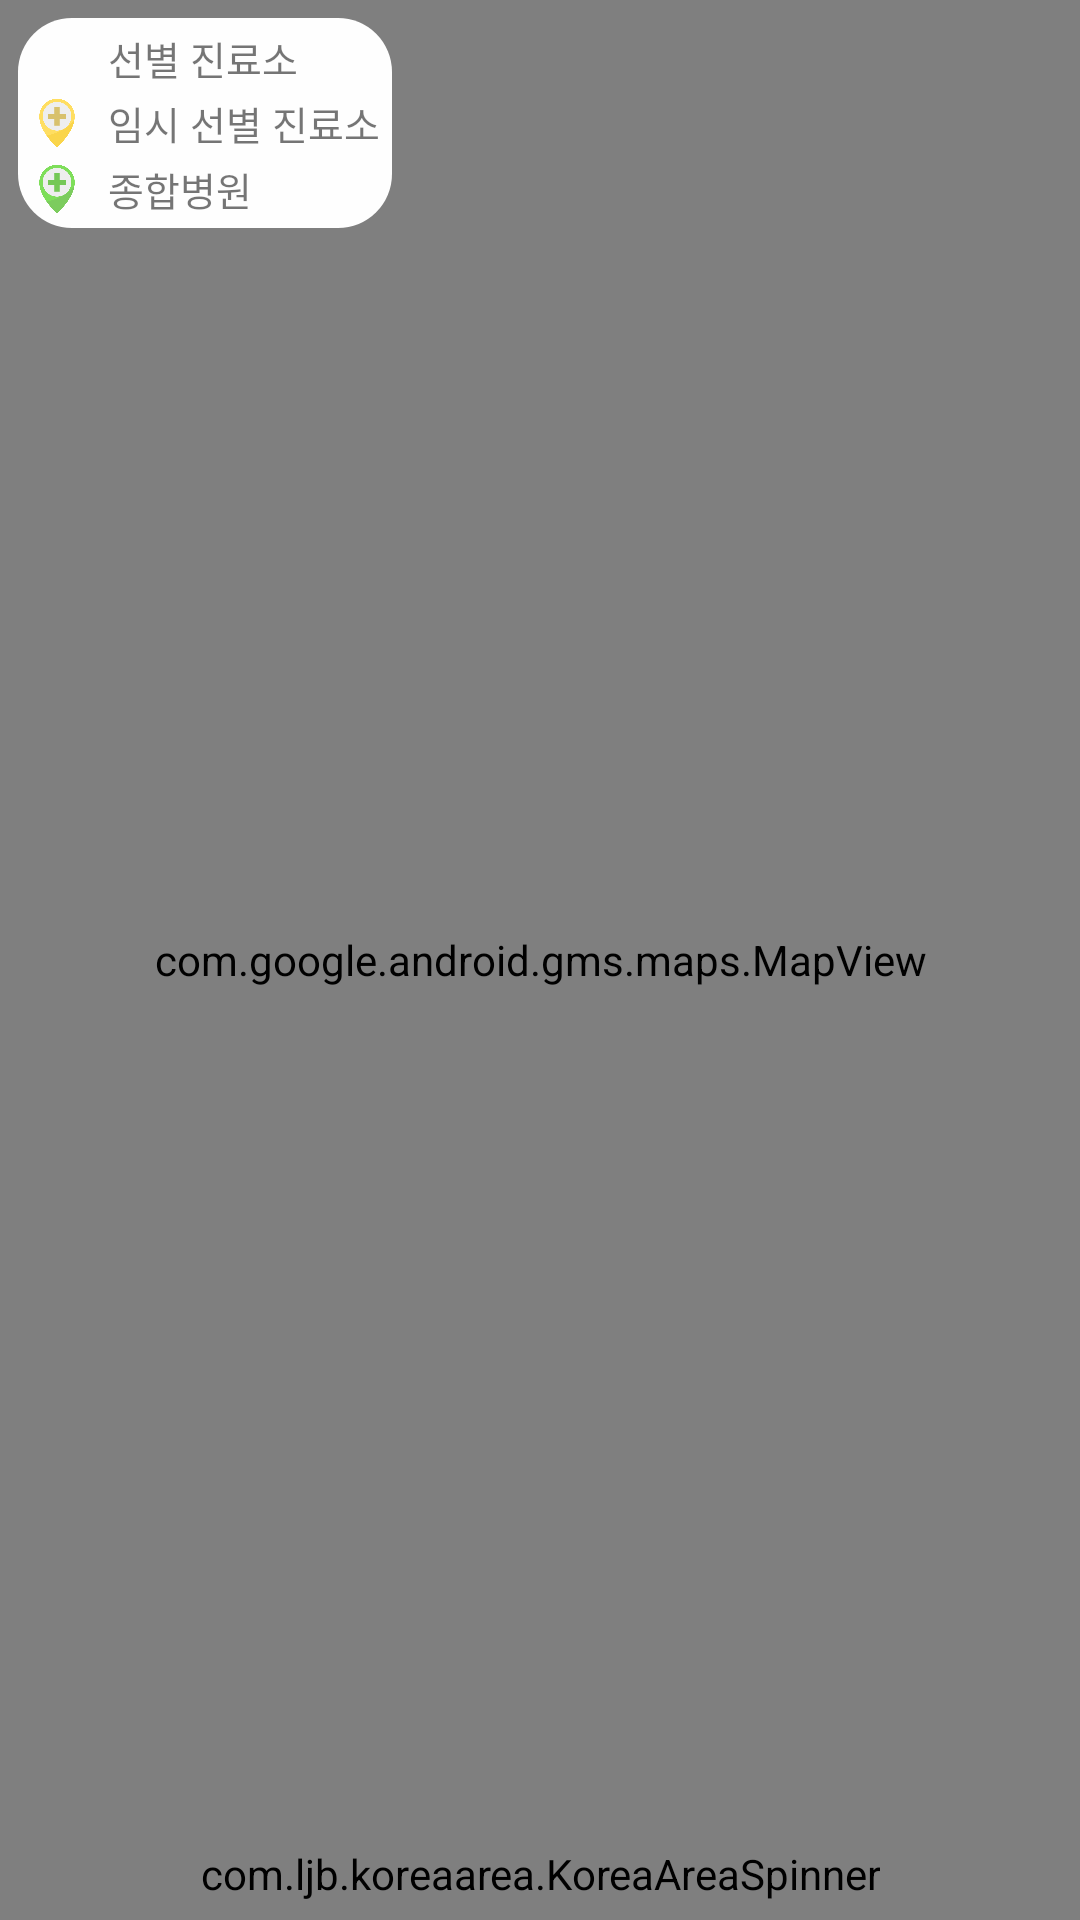

Where icons sit on this 1080*1920 app screen, as bbox(x1, y1, x2, y2):
hosp comprehensive: bbox(39, 165, 75, 213)
